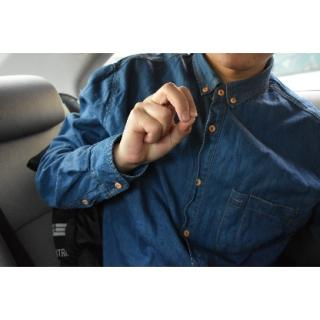QAAF: (115, 77, 198, 166)
